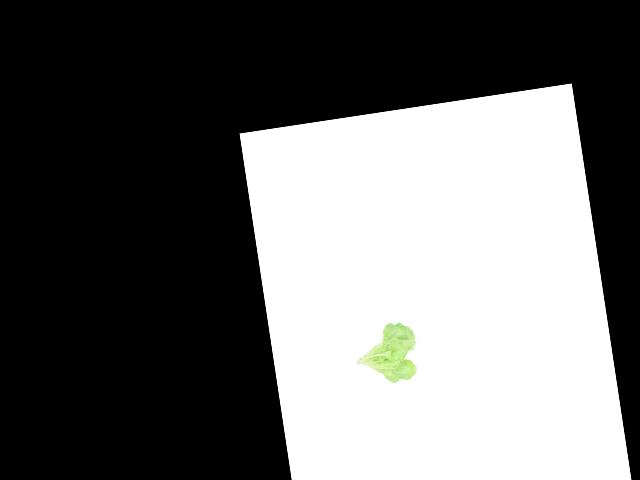lettuce: (349, 316, 425, 390)
